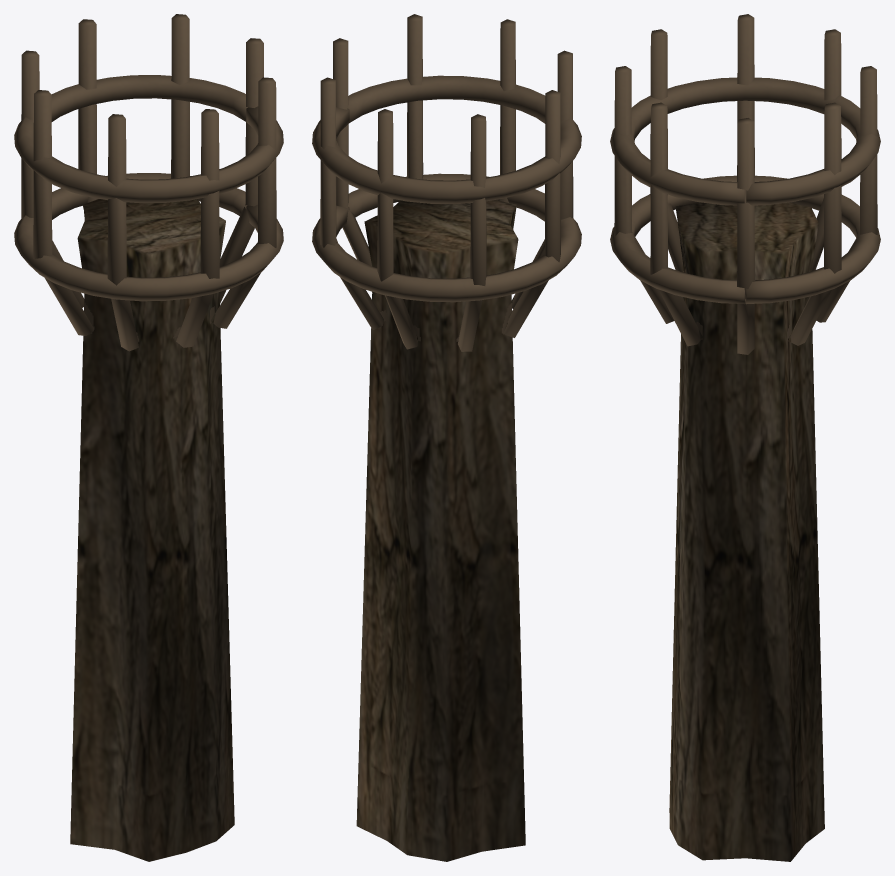
The model's file is RF3_Bridge_Torch_Holder.fbx.
3 renders of one model, left to right at view 1: azimuth 30°, elevation 25°; view 2: azimuth 150°, elevation 25°; view 3: azimuth 270°, elevation 25°, orthographic.
Parts seen in each view (by area): view 1: RF3_Bridge_Torch_Holder; view 2: RF3_Bridge_Torch_Holder; view 3: RF3_Bridge_Torch_Holder.
Part boxes in pixels (x1,y1,x2,y2): RF3_Bridge_Torch_Holder: (14, 14, 283, 861); RF3_Bridge_Torch_Holder: (312, 14, 581, 861); RF3_Bridge_Torch_Holder: (610, 14, 880, 861).
Bounding box in the file's own units: 74.98 × 232 × 75.
